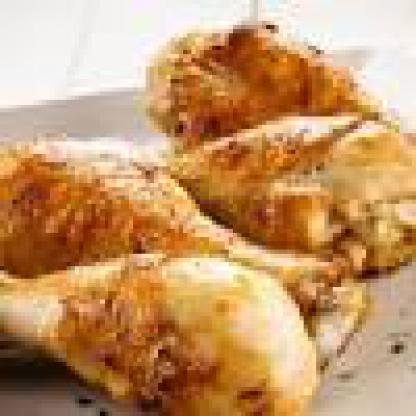ayam_goreng: (0, 142, 362, 316), (0, 254, 316, 412), (141, 125, 412, 270), (141, 25, 412, 146)
